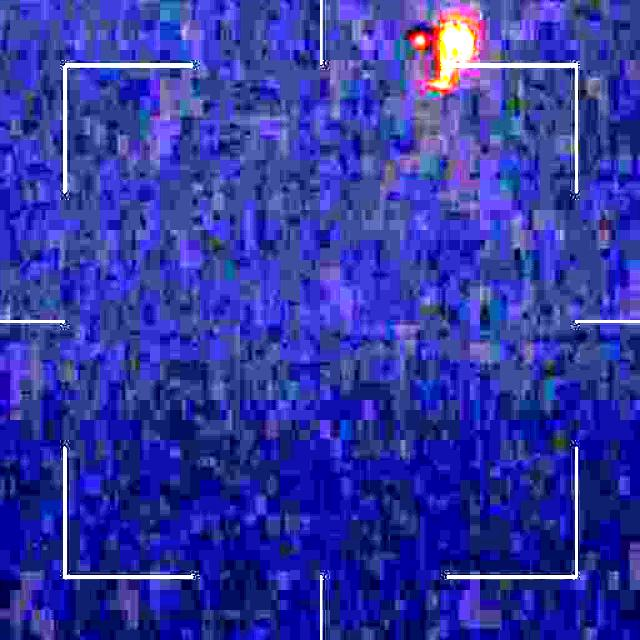bird: (400, 16, 472, 91)
